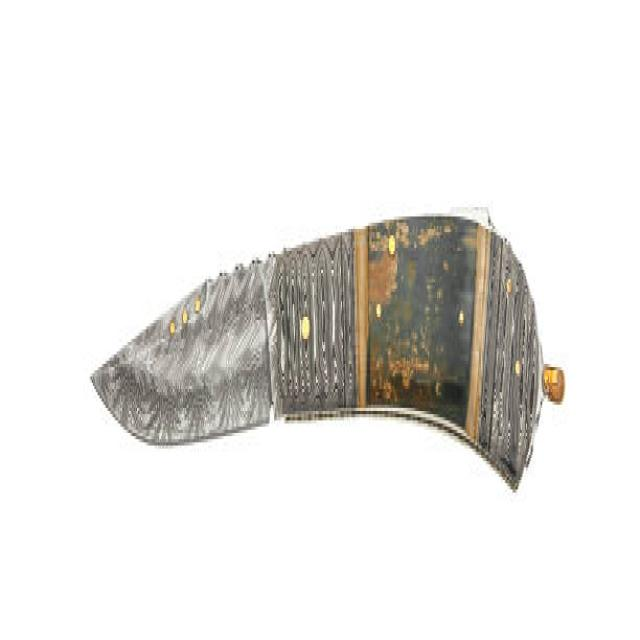knife: (87, 192, 567, 496)
